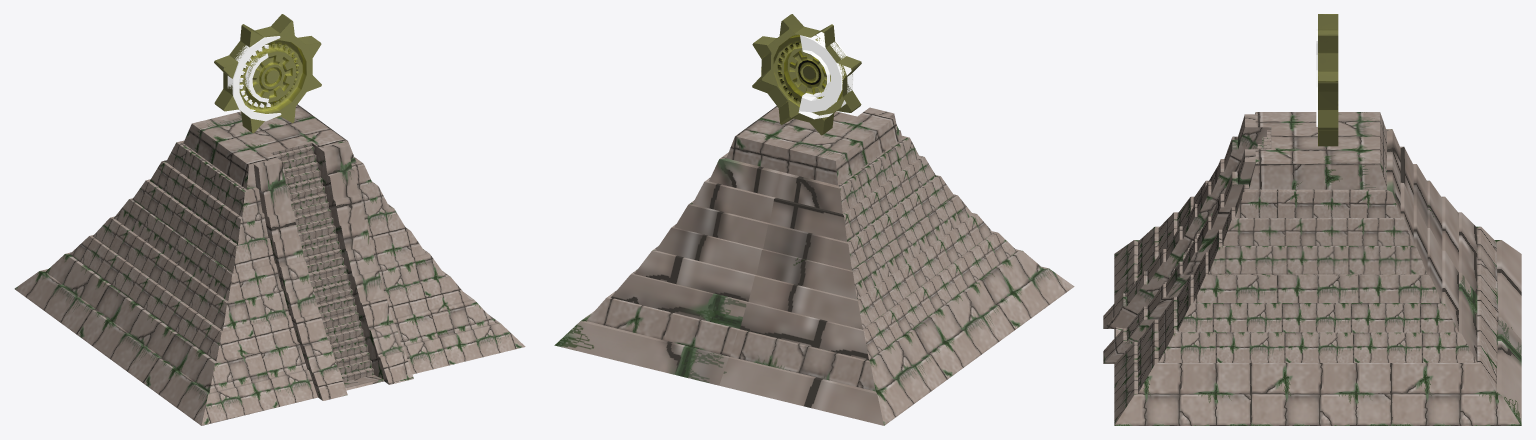
The model's file is Templo_Sol.glb.
3 renders of one model, left to right at view 1: azimuth 30°, elevation 25°; view 2: azimuth 150°, elevation 25°; view 3: azimuth 270°, elevation 25°, orthographic. The views are drawn at different scales.
Visible parts, largest first — view 1: Templo_Base_Sol, Templo_Sol_Sol, Templo_Sol_Luna; view 2: Templo_Base_Sol, Templo_Sol_Sol, Templo_Sol_Luna; view 3: Templo_Base_Sol, Templo_Sol_Sol.
Boxes of the visible parts, box(x1,y1,x2,y2) form: Templo_Base_Sol: box(14, 104, 525, 425); Templo_Sol_Sol: box(214, 14, 321, 133); Templo_Sol_Luna: box(227, 36, 281, 121); Templo_Base_Sol: box(554, 106, 1074, 425); Templo_Sol_Sol: box(752, 14, 861, 135); Templo_Sol_Luna: box(798, 30, 853, 119); Templo_Base_Sol: box(1103, 112, 1521, 425); Templo_Sol_Sol: box(1318, 14, 1338, 146).
Bounding box in the file's own units: 80.08 × 69.25 × 82.2.
Materials: 3 (2 with a texture image).
